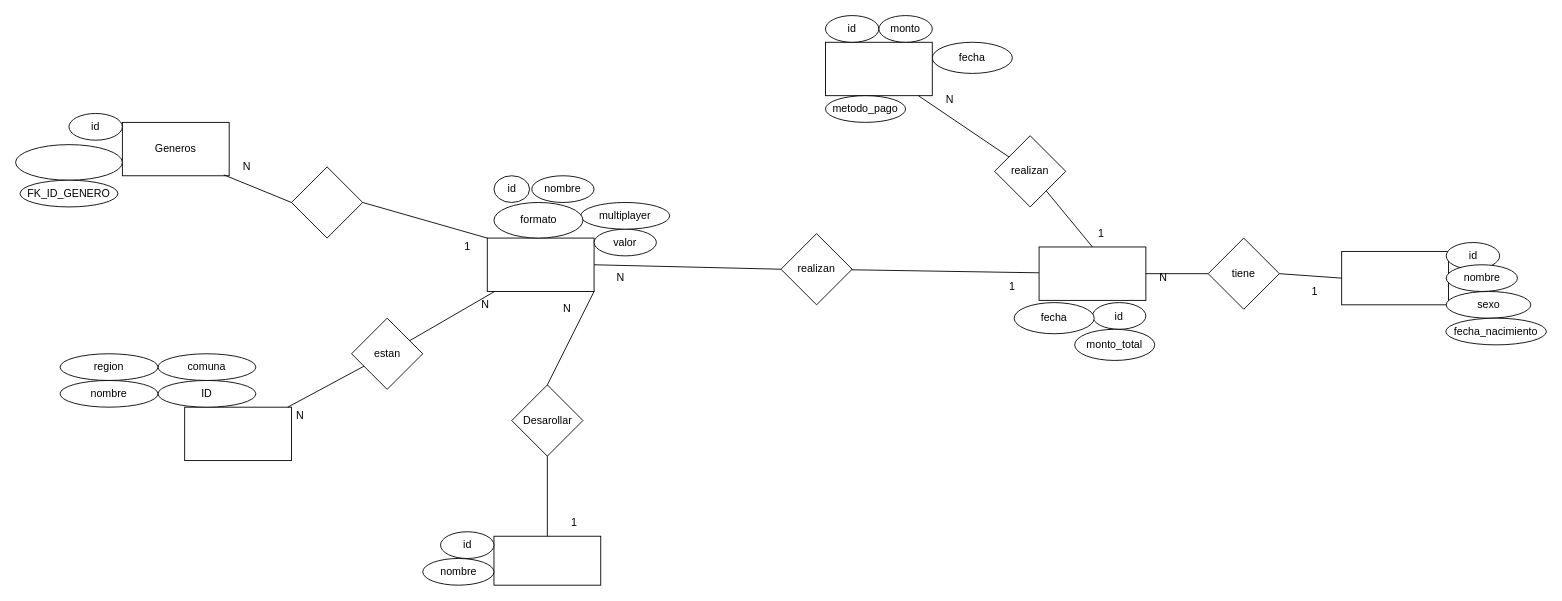
The diagram is 1562 pixels wide and 601 high, and some of its shapes have lost their labels. Here are the shapes that lost their labels. From the top down, the centre of each, then its label:
the point at 878,68: pagos
the point at 68,162: FK_ID_VIDEOJUEGO
the point at 327,202: Asociar
the point at 540,264: Videojuegos
the point at 1092,273: Facturas
the point at 1394,278: clientes
the point at 237,433: Sucursales
the point at 547,560: Empresas
